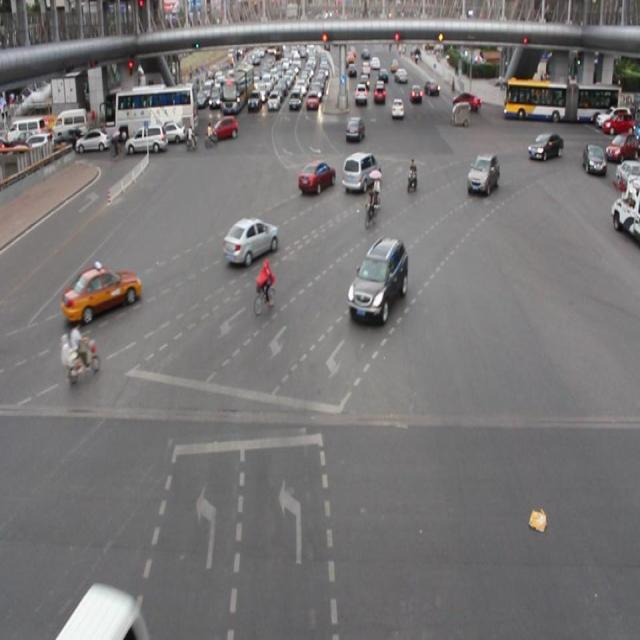BigCar: (506, 73, 596, 126)
car: (345, 239, 409, 330), (62, 260, 142, 322), (219, 213, 279, 260), (468, 146, 501, 205), (341, 146, 376, 192), (298, 157, 334, 199), (127, 126, 166, 161), (529, 130, 564, 165), (608, 128, 636, 161), (76, 127, 108, 155), (583, 143, 603, 182), (344, 110, 366, 145), (211, 118, 239, 144), (354, 82, 370, 104), (391, 94, 404, 120), (411, 80, 424, 106), (374, 81, 386, 104), (288, 94, 302, 113), (267, 90, 280, 110), (250, 91, 262, 110), (308, 93, 320, 111)
